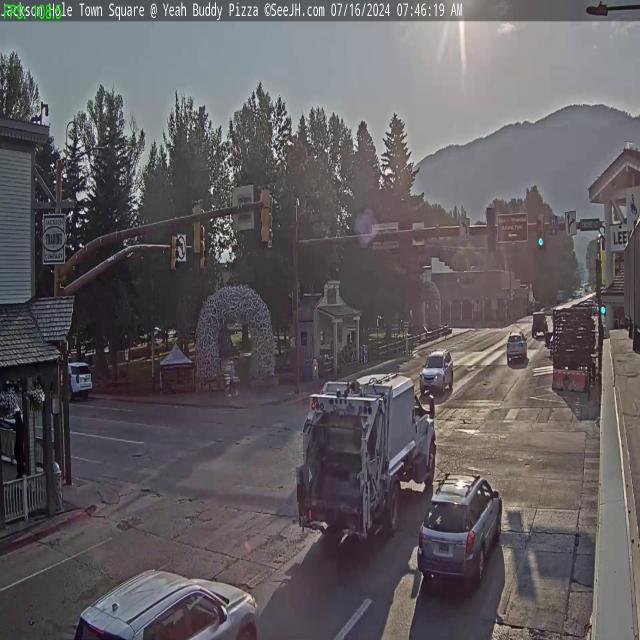person: (228, 358, 238, 398)
suv: (70, 562, 264, 640), (414, 472, 506, 593), (420, 347, 453, 394), (63, 359, 94, 402), (505, 331, 527, 362)
traffic light: (190, 200, 203, 258), (260, 184, 272, 244), (486, 207, 496, 255), (536, 214, 546, 248), (170, 236, 178, 272)
truck: (294, 373, 438, 546)
